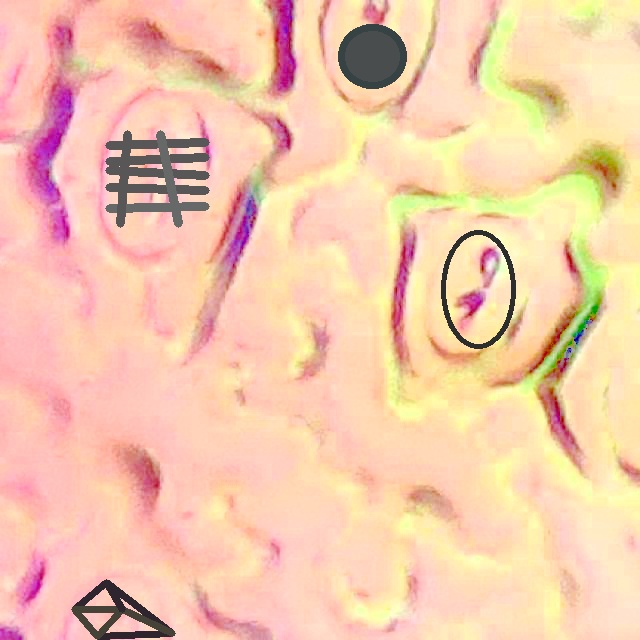open: (105, 130, 209, 227), (440, 229, 516, 349), (71, 579, 174, 639), (338, 24, 407, 88)
